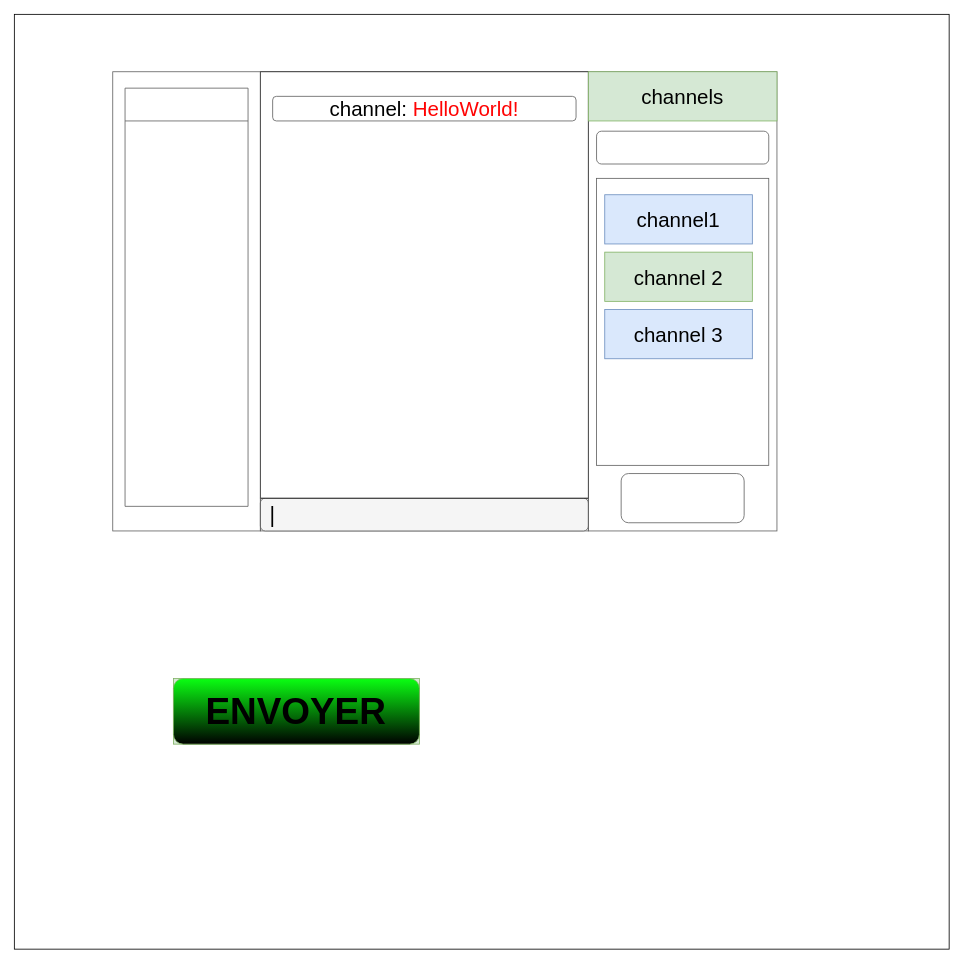
Image size: 964x964. Some labels were removed from this diagram. The centre of each missing label's shape, as x and y in pixels:
create: point (682, 147)
leave / join channel: point (682, 498)
users: point (186, 296)
